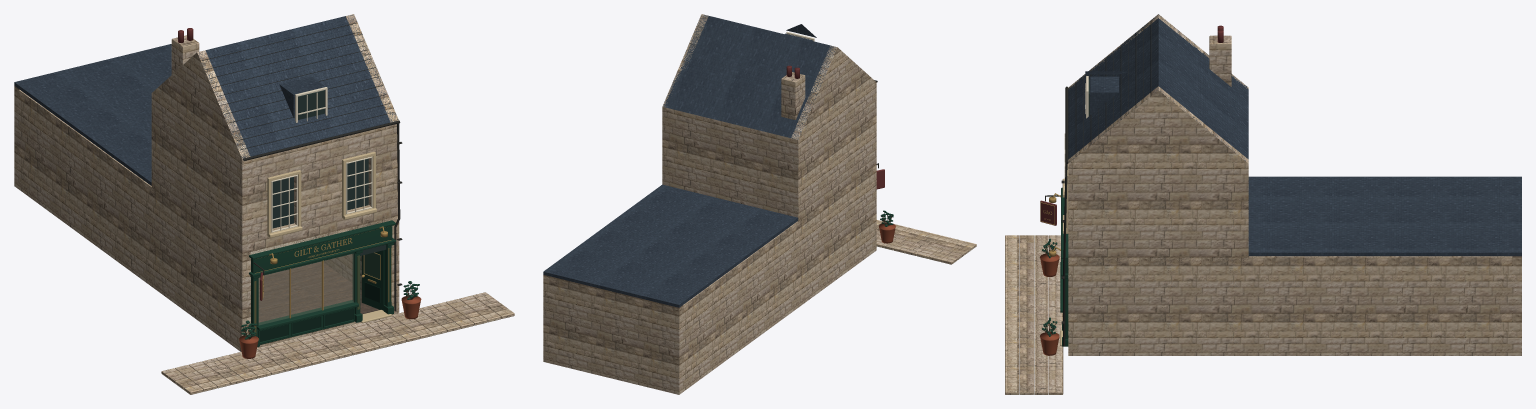
Rendered from exterior.glb.
The picture shows the model from 3 angles, left to right: view 1: azimuth 30°, elevation 25°; view 2: azimuth 150°, elevation 25°; view 3: azimuth 270°, elevation 25°; orthographic projection. The views are drawn at different scales.
Visible parts, largest first — view 1: Limestone flank, Slate roof front, Rear roof, Upper flank, Gable, Old display glass, Facade stone course.001, Oak floor, Facade stone course, Window pier.001, Fascia timber, Ground slab (+18 smaller); view 2: Limestone flank, Rear roof, Slate roof rear, Rear wall, Upper rear wall, Upper flank, Gable, Ground slab, Chimney, Limestone flank.001, Upper flank.001, Gable.001 (+1 smaller); view 3: Limestone flank.001, Rear roof, Upper flank.001, Gable.001, Slate roof rear, Slate roof front, Ground slab, Rear wall, Chimney, Stone pier.001, Dormer cheeks, Drainpipe (+2 smaller).
Boxes of the visible parts, x1,y1,x2,y2 form: Limestone flank: (14,87,250,347); Slate roof front: (198,15,398,158); Rear roof: (14,44,171,185); Upper flank: (151,93,250,254); Gable: (152,50,250,159); Old display glass: (259,254,353,324); Facade stone course.001: (237,124,397,187); Oak floor: (258,261,379,322); Facade stone course: (237,201,397,256); Window pier.001: (294,163,341,223); Fascia timber: (251,226,392,273); Ground slab: (14,182,399,351); Limestone flank: (672,165,876,390); Rear roof: (543,184,798,307); Slate roof rear: (662,15,836,139); Rear wall: (543,275,683,390); Upper rear wall: (669,108,790,215); Upper flank: (791,84,876,223); Gable: (791,46,876,139); Ground slab: (543,247,876,394); Chimney: (781,72,805,119); Limestone flank.001: (543,276,550,359); Upper flank.001: (662,107,669,186); Gable.001: (662,14,708,106); Limestone flank.001: (1068,256,1512,351); Rear roof: (1248,176,1521,256); Upper flank.001: (1068,163,1248,260); Gable.001: (1068,86,1248,163); Slate roof rear: (1158,14,1248,161); Slate roof front: (1068,15,1158,161); Ground slab: (1068,352,1521,355); Rear wall: (1512,256,1521,351); Chimney: (1209,35,1231,86); Stone pier.001: (1069,260,1078,351); Dormer cheeks: (1090,76,1118,114); Drainpipe: (1063,162,1067,346).
Size of the model in its own units: 11.99 by 9.45 by 16.64.
15 materials, 3 textured.
